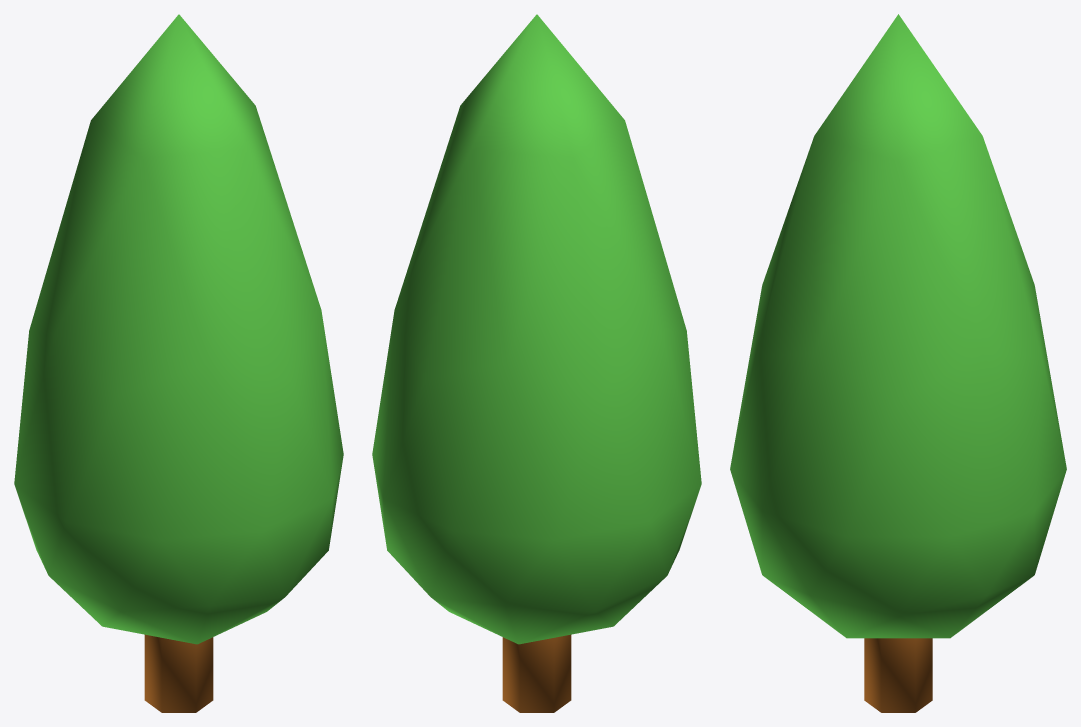
The model's file is SmoothTree.fbx.
3 renders of one model, left to right at view 1: azimuth 30°, elevation 25°; view 2: azimuth 150°, elevation 25°; view 3: azimuth 270°, elevation 25°, orthographic.
Parts seen in each view (by area): view 1: Cylinder; view 2: Cylinder; view 3: Cylinder.
Part boxes in pixels (box(x1,y1,x2,y2)): Cylinder: box(14, 14, 343, 712); Cylinder: box(372, 14, 701, 712); Cylinder: box(730, 14, 1066, 712).
Size of the model in its own units: 344 by 814 by 362.
